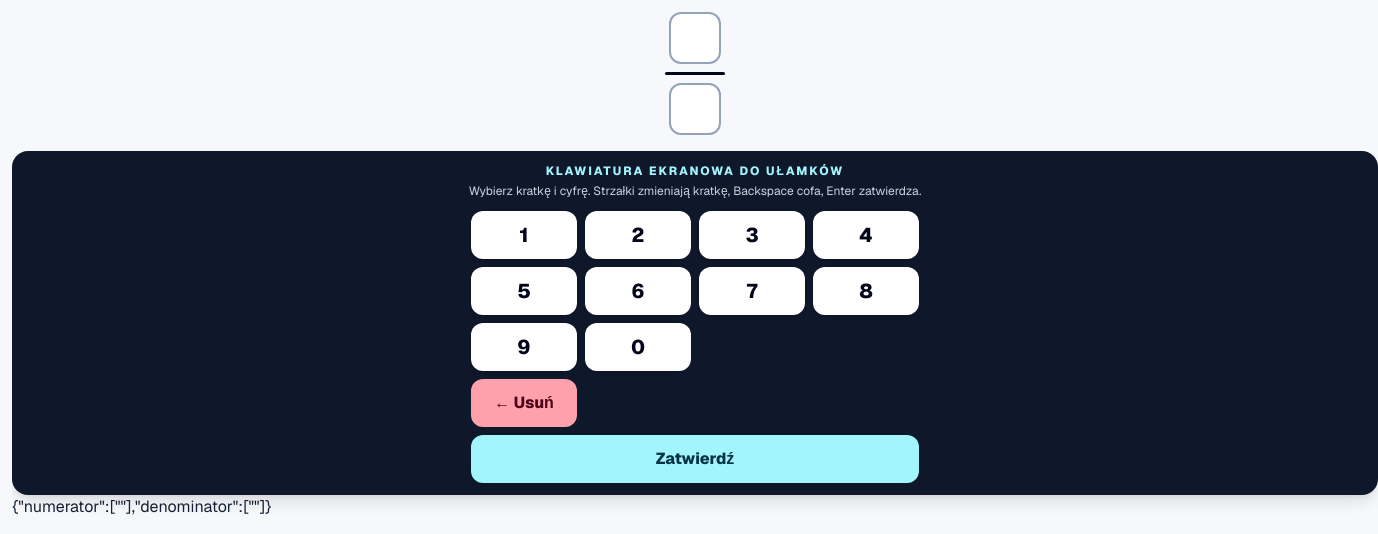
Test case: FractionStackInput — klawiatura, dotyk i semantyka › wpisuje jedną cyfrę do jednej kratki dotykiem, zwiększa liczbę kratek i przenosi focus
Click the button "1" at x=524, y=235, box [471,211,577,259]
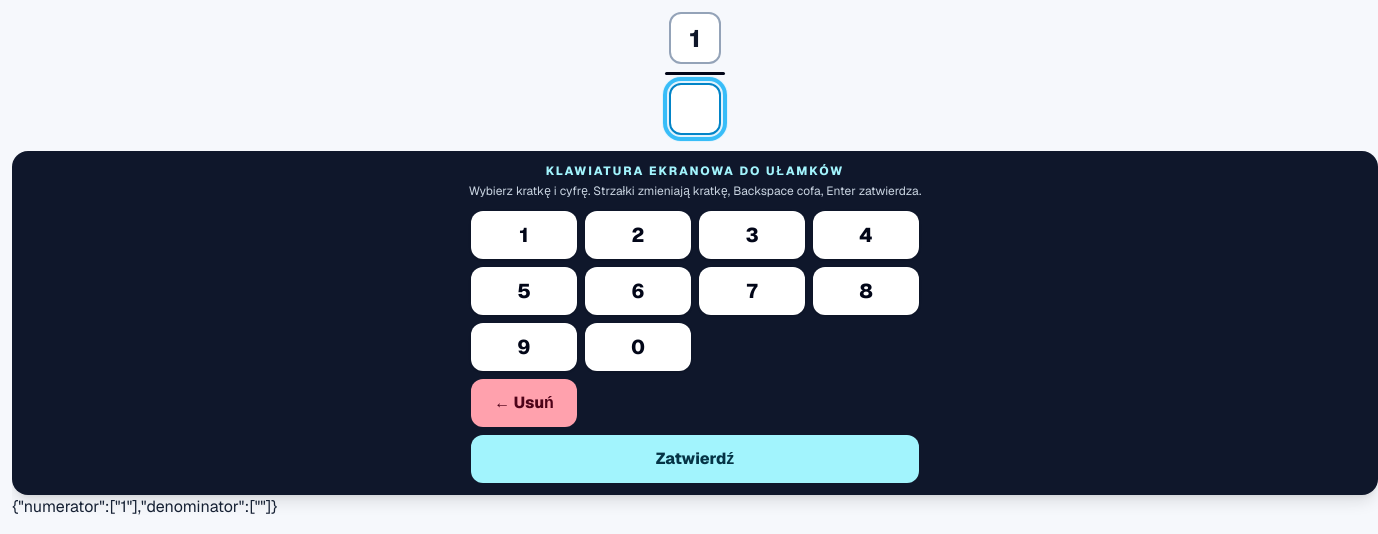
Result: the text with test id "state" shows "\"numerator\":[\"1\"]" at [12,496,278,517]
Click the button "2" at x=638, y=235, box [585,211,691,259]
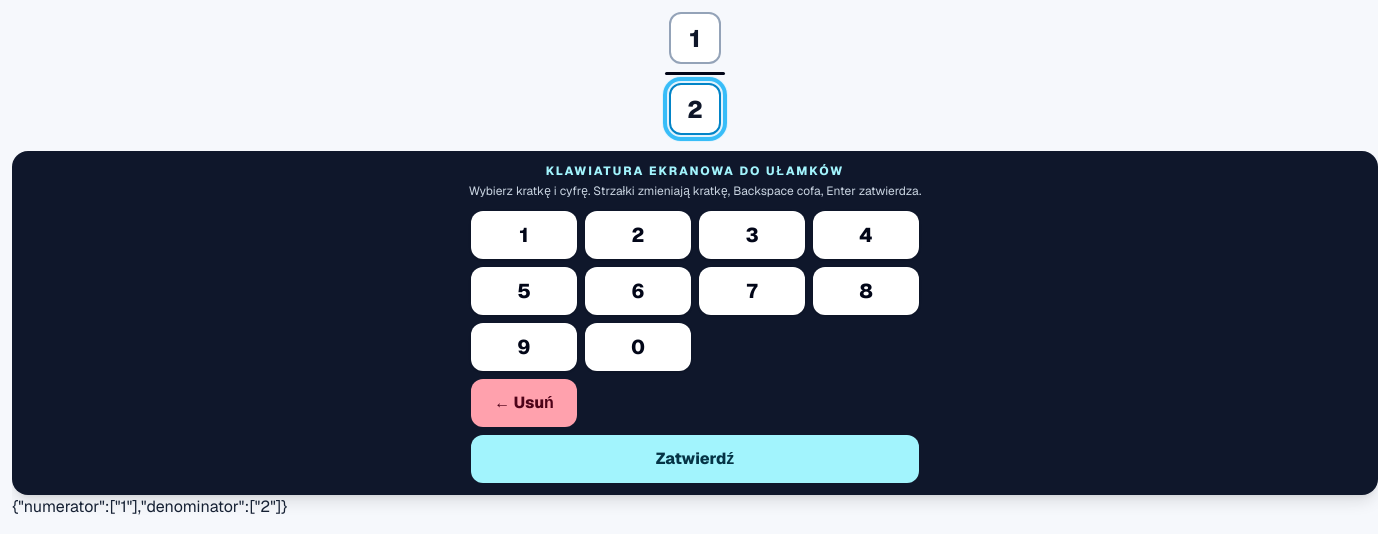
Result: the field named "mianownik, cyfra 1 z 1" holds "2" at [669,83,721,135]
